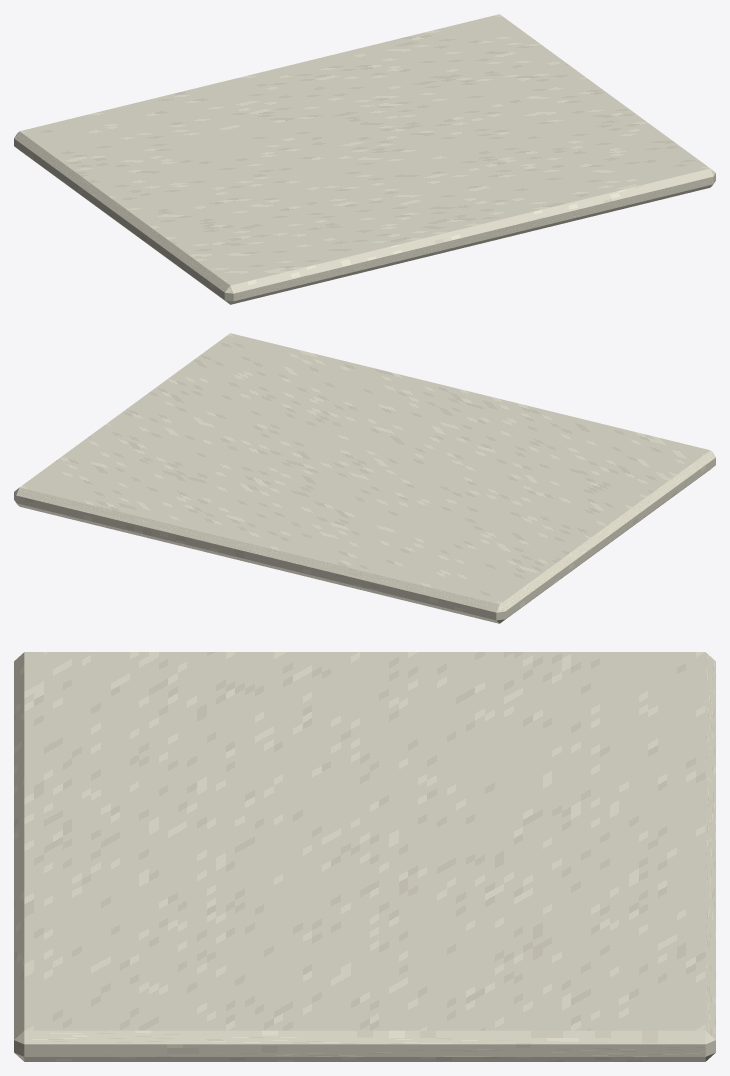
File: material_styrofoam_sheet.glb
3 renders of one model, top to bottom at view 1: azimuth 30°, elevation 25°; view 2: azimuth 150°, elevation 25°; view 3: azimuth 270°, elevation 25°, orthographic. The views are drawn at different scales.
Visible parts, largest first — view 1: block_stock material; view 2: block_stock material; view 3: block_stock material.
Boxes of the visible parts, bbox=[...] form: block_stock material: bbox=[14, 14, 715, 304]; block_stock material: bbox=[14, 333, 715, 623]; block_stock material: bbox=[14, 652, 715, 1061].
Bounding box in the file's own units: 1.2 × 0.045 × 0.9191.
1 material, 1 textured.
